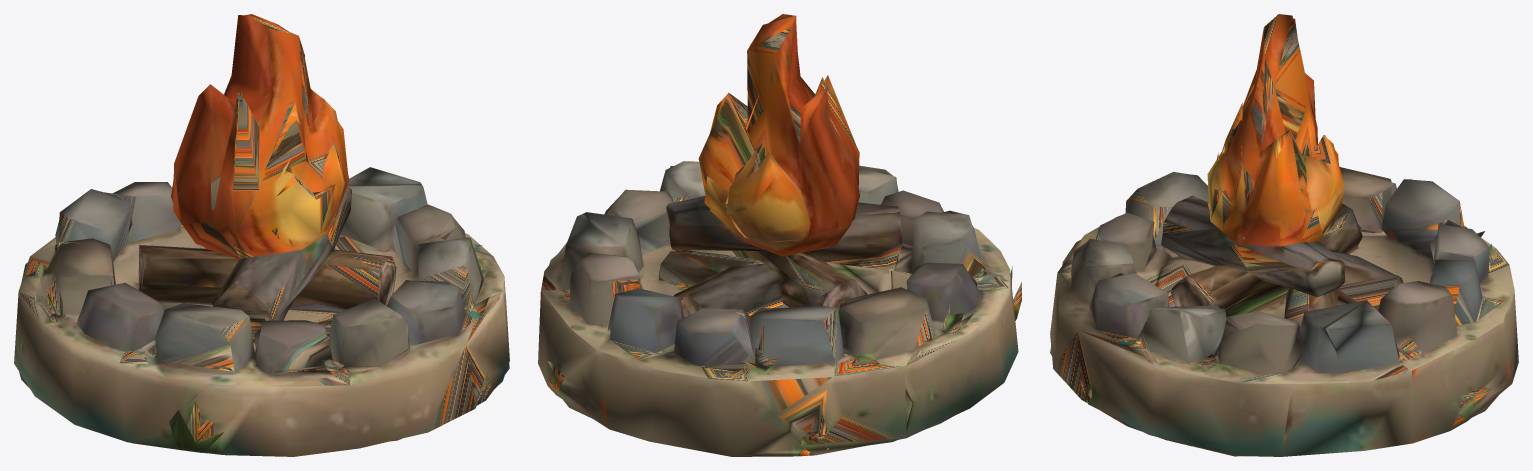
Rendered from sw-fire-lite.glb.
3 views of the same model, side by side, from view 1: azimuth 30°, elevation 25°; view 2: azimuth 150°, elevation 25°; view 3: azimuth 270°, elevation 25° (orthographic). The views are drawn at different scales.
Visible parts, largest first — view 1: geometry_0; view 2: geometry_0; view 3: geometry_0.
Boxes of the visible parts, box(x1,y1,x2,y2) form: geometry_0: box(14, 14, 509, 456); geometry_0: box(538, 14, 1021, 456); geometry_0: box(1050, 14, 1518, 456).
Bounding box in the file's own units: 0.8862 × 0.7066 × 0.8836.
1 material, 1 textured.
